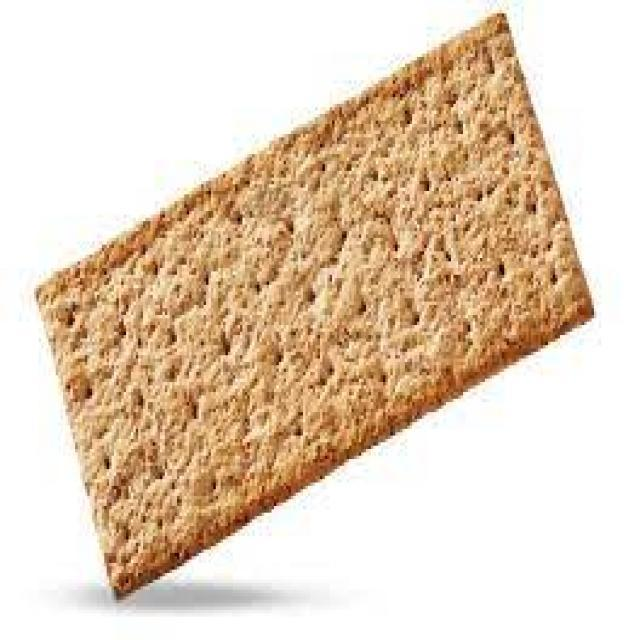Cracker: (34, 20, 602, 593)
